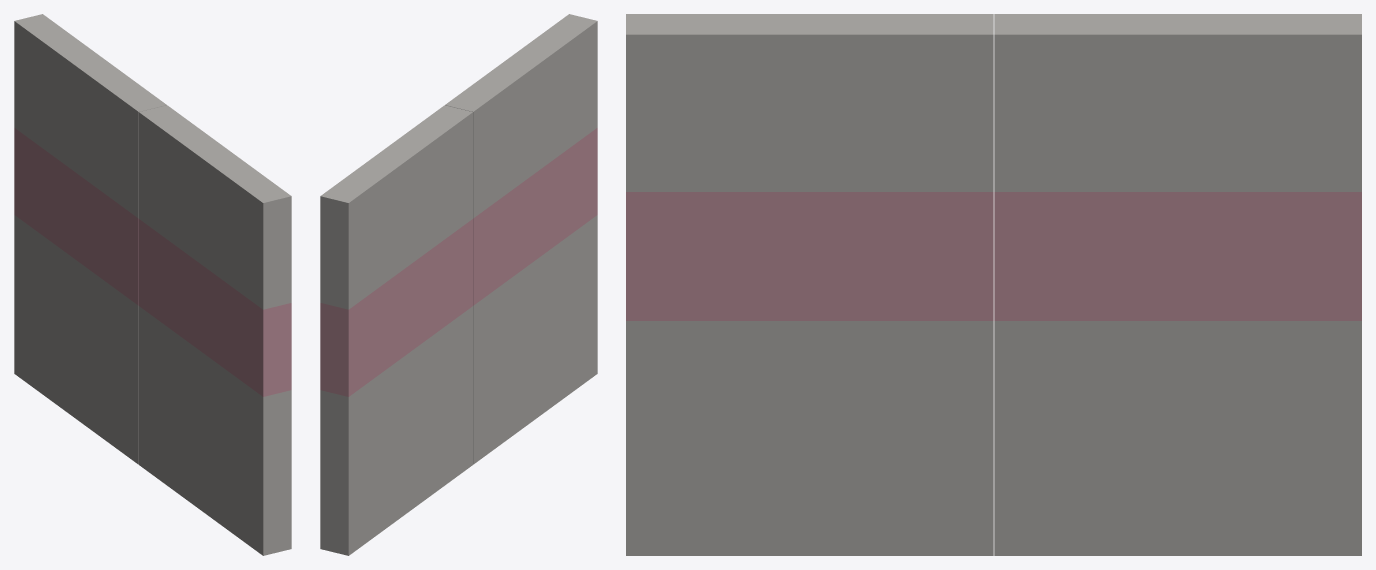
Rendered from two_sided_door.glb.
The picture shows the model from 3 angles, left to right: view 1: azimuth 30°, elevation 25°; view 2: azimuth 150°, elevation 25°; view 3: azimuth 270°, elevation 25°; orthographic projection. The views are drawn at different scales.
Parts seen in each view (by area): view 1: DoorLeft, DoorRight; view 2: DoorRight, DoorLeft; view 3: DoorLeft, DoorRight.
Part boxes in pixels (bbox=[...]): DoorLeft: bbox=[139, 105, 291, 555]; DoorRight: bbox=[14, 14, 166, 464]; DoorRight: bbox=[320, 105, 472, 555]; DoorLeft: bbox=[445, 14, 597, 464]; DoorLeft: bbox=[626, 14, 993, 555]; DoorRight: bbox=[994, 14, 1361, 555].
Bounding box in the file's own units: 0.0529 × 0.6274 × 0.8022.
